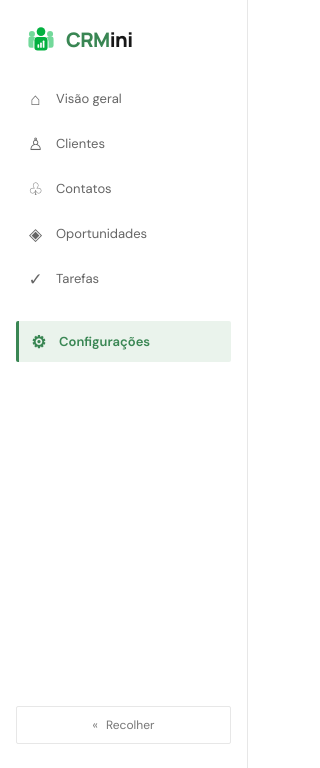
it: Barra lateral recolhível › expande no segundo clique e persiste false
What coordinates should you click on to do the following:
click the button with aria-label "Recolher barra lateral"
I would click on:
 (124, 725)
Its box is [16,706,231,744].
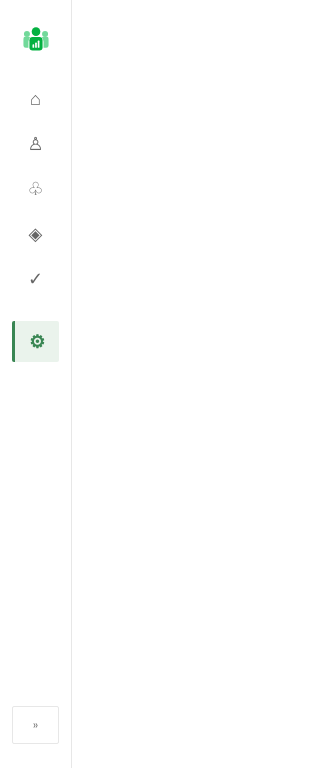
What coordinates should you click on to do the following:
click the button named "Expandir barra lateral"
I would click on:
 (36, 725)
Its box is [12,706,59,744].
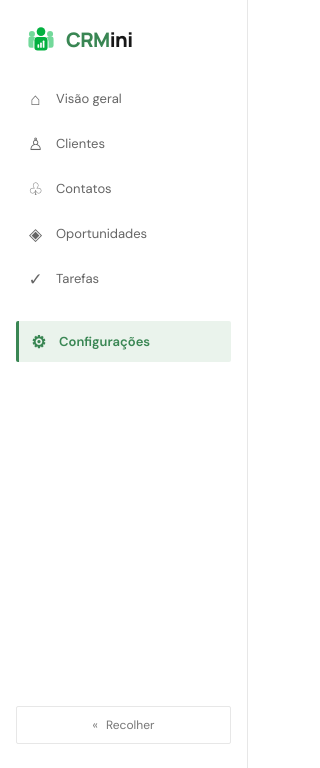
Now the button with aria-label "Recolher barra lateral" is expanded, box [16,706,231,744]
